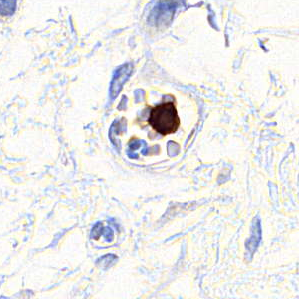Lymphocyte: (148, 101, 182, 136)
